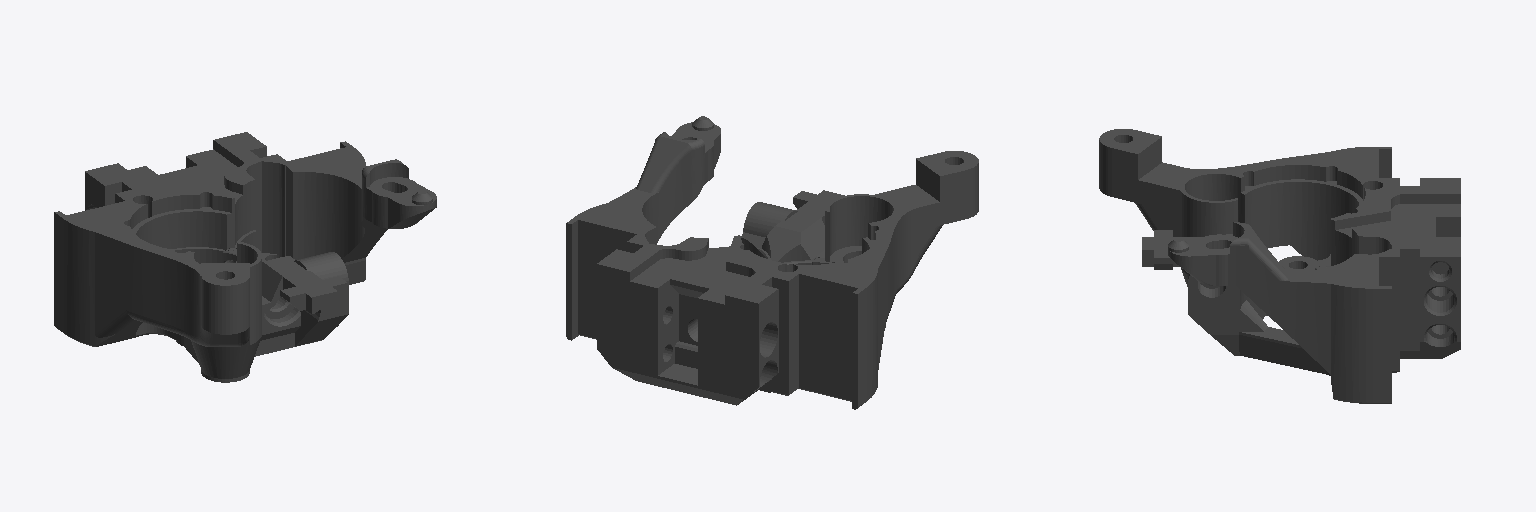
File: Front-Bambu.obj
The picture shows the model from 3 angles: view 1: azimuth 30°, elevation 25°; view 2: azimuth 150°, elevation 25°; view 3: azimuth 270°, elevation 25°; orthographic projection.
Parts seen in each view (by area): view 1: Front-Bambu; view 2: Front-Bambu; view 3: Front-Bambu.
Part boxes in pixels (left/top/right/bottom): Front-Bambu: left=54, top=132, right=436, bottom=382; Front-Bambu: left=566, top=116, right=978, bottom=409; Front-Bambu: left=1099, top=129, right=1460, bottom=403.
Bounding box in the file's own units: 55 × 28.16 × 59.11.